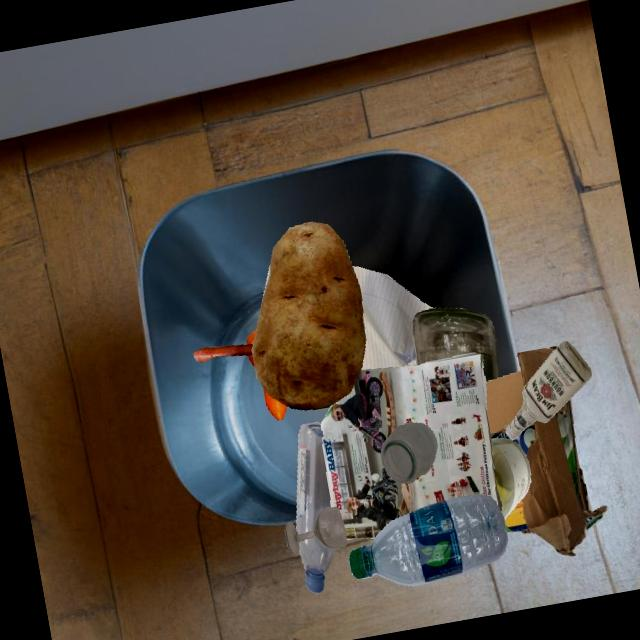biowaste: (251, 221, 365, 409), (252, 331, 284, 404), (192, 344, 253, 361), (262, 386, 286, 419), (247, 329, 255, 344), (248, 354, 254, 367)
cardboard: (485, 345, 607, 555)
glass: (506, 340, 591, 439), (411, 307, 498, 381), (380, 422, 437, 483), (491, 437, 530, 518), (284, 506, 346, 556)
paper: (320, 352, 502, 539), (352, 266, 432, 370)
plastic: (349, 493, 508, 585), (296, 421, 331, 535), (298, 536, 335, 593)
